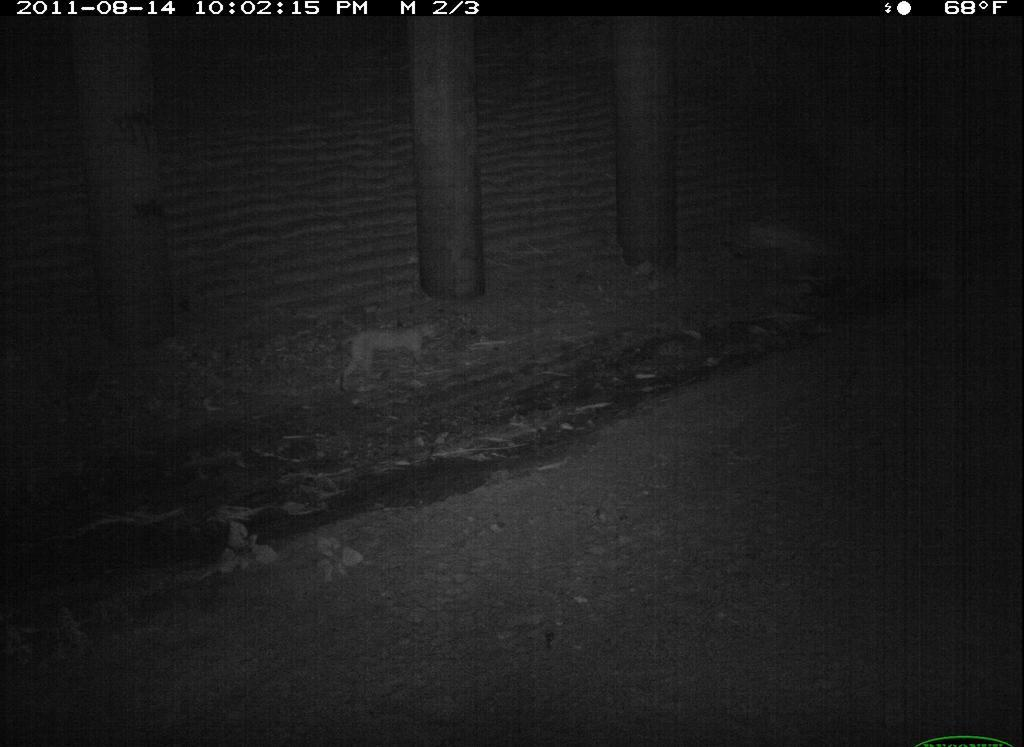bobcat: (668, 620, 890, 747)
